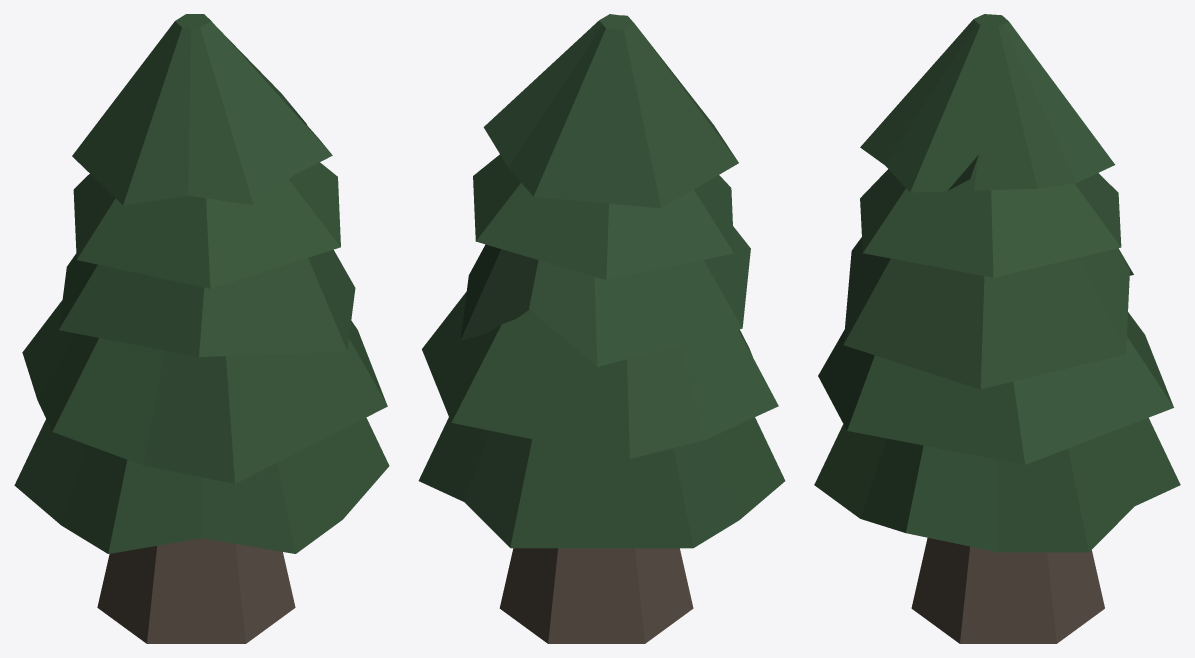
File: Low Poly Tree .fbx
3 renders of one model, left to right at view 1: azimuth 30°, elevation 25°; view 2: azimuth 150°, elevation 25°; view 3: azimuth 270°, elevation 25°, orthographic. The views are drawn at different scales.
Visible parts, largest first — view 1: Cylinder.002, Cylinder.005, Cylinder.001, Cylinder.003, Cylinder.004, Cylinder; view 2: Cylinder.002, Cylinder.001, Cylinder.005, Cylinder.003, Cylinder.004, Cylinder; view 3: Cylinder.001, Cylinder.003, Cylinder.005, Cylinder.002, Cylinder.004, Cylinder.
Part boxes in pixels (x1,y1,x2,y2): Cylinder.002: [22, 300, 387, 483]; Cylinder.005: [72, 14, 332, 205]; Cylinder.001: [14, 417, 389, 553]; Cylinder.003: [58, 249, 355, 356]; Cylinder.004: [73, 162, 340, 288]; Cylinder: [97, 538, 295, 643]; Cylinder.002: [422, 292, 778, 458]; Cylinder.001: [418, 417, 785, 548]; Cylinder.005: [483, 14, 738, 208]; Cylinder.003: [460, 226, 750, 366]; Cylinder.004: [473, 154, 733, 280]; Cylinder: [499, 548, 693, 643]; Cylinder.001: [814, 417, 1180, 552]; Cylinder.003: [843, 237, 1133, 389]; Cylinder.005: [860, 14, 1114, 192]; Cylinder.002: [818, 312, 1173, 464]; Cylinder.004: [860, 169, 1121, 277]; Cylinder: [911, 538, 1104, 643].
Bounding box in the file's own units: 391 × 665 × 379.
